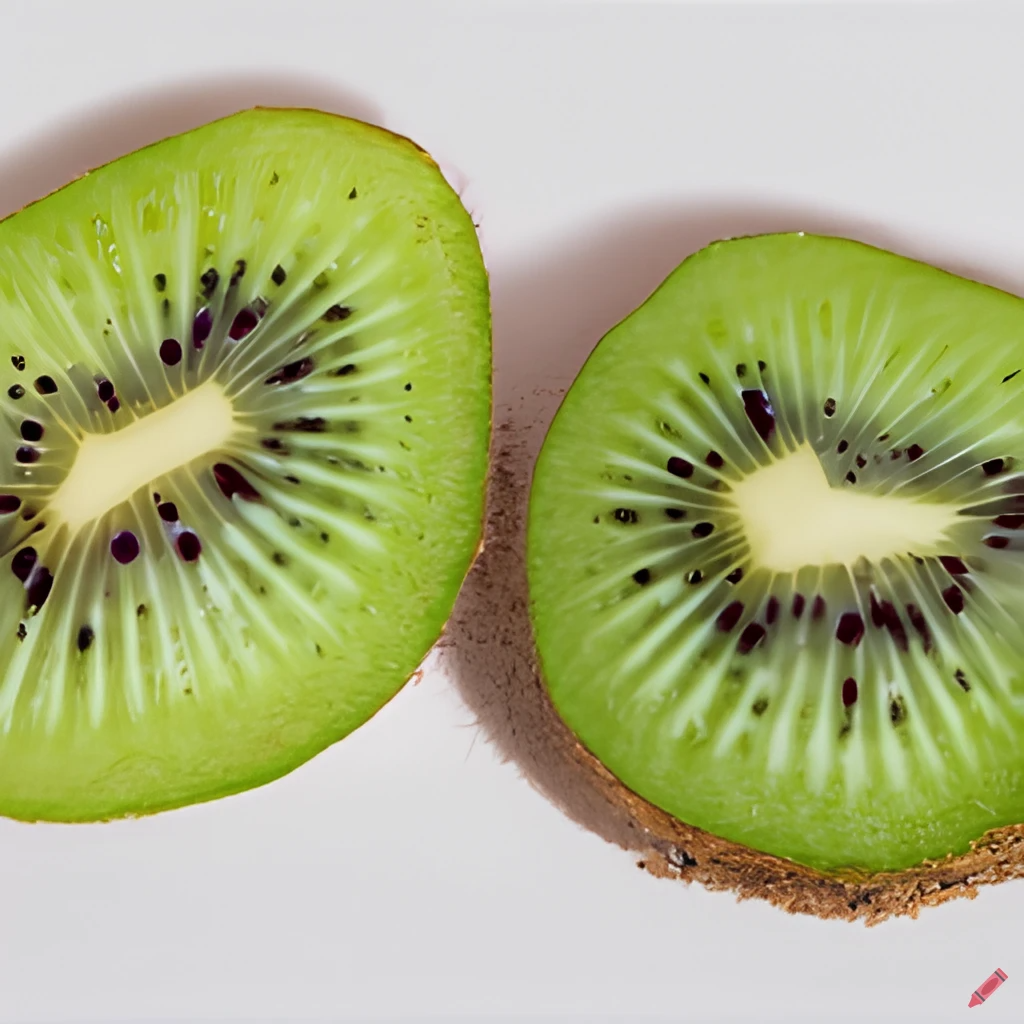Kiwi: (513, 155, 1022, 934), (0, 96, 518, 838)
